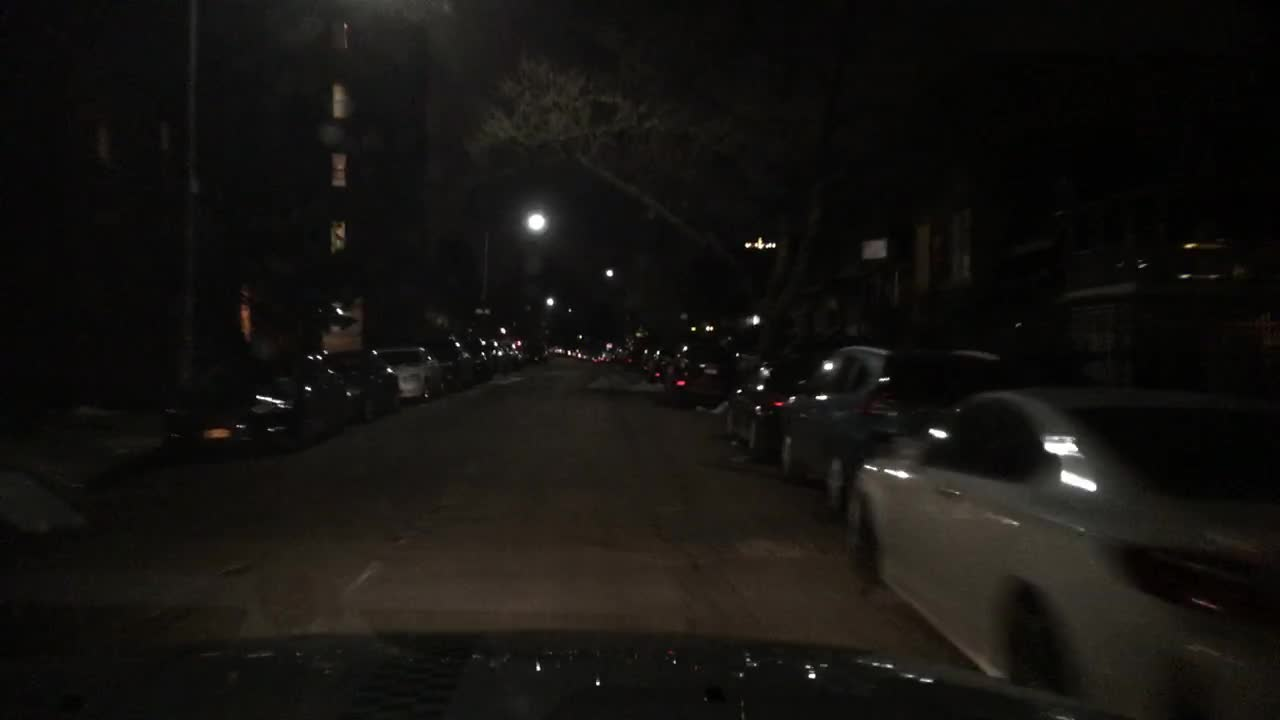car: (846, 377, 1278, 716), (781, 344, 1001, 510), (155, 352, 347, 459), (720, 360, 819, 456), (314, 347, 400, 417), (372, 343, 444, 405), (667, 346, 734, 399), (417, 335, 468, 392), (458, 335, 489, 377), (646, 348, 680, 385), (524, 333, 548, 364), (506, 340, 524, 373), (487, 338, 503, 373), (599, 341, 617, 364), (617, 343, 629, 365), (576, 344, 592, 360), (632, 346, 645, 365), (548, 341, 564, 355), (566, 343, 575, 358)
